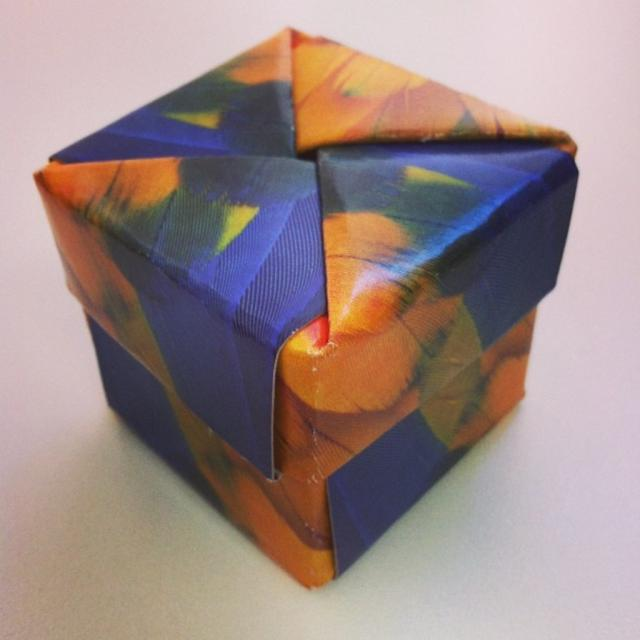Box: (32, 26, 578, 591)
